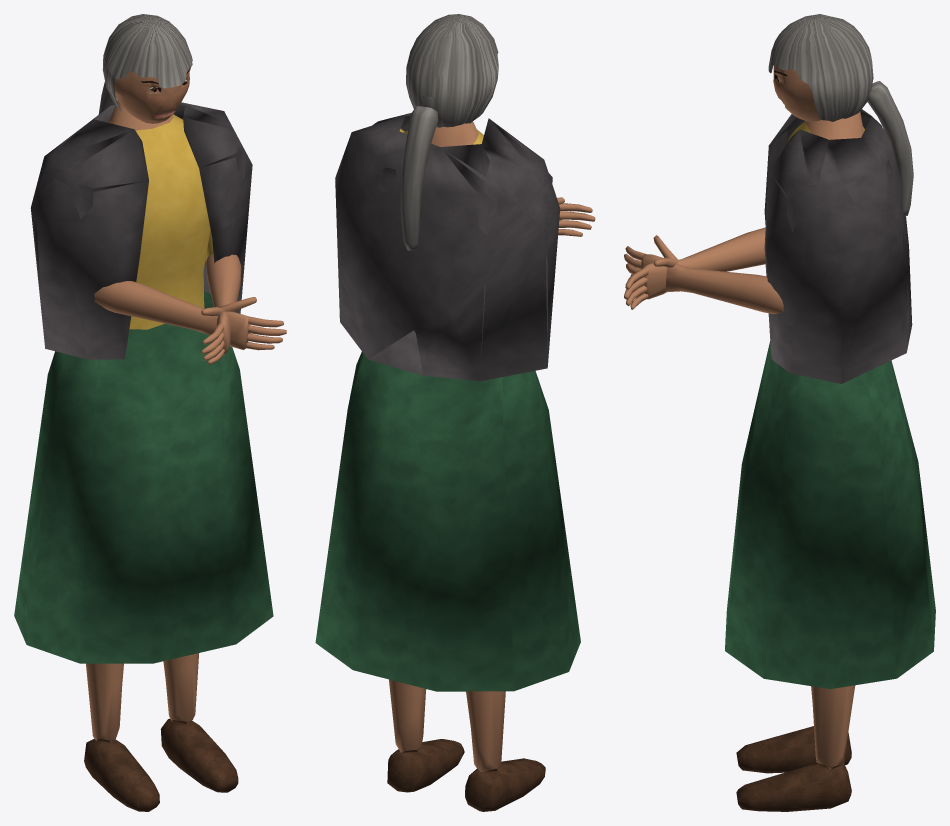
The model's file is persona_mujer_c_lod.obj.
3 views of the same model, side by side, from view 1: azimuth 30°, elevation 25°; view 2: azimuth 150°, elevation 25°; view 3: azimuth 270°, elevation 25° (orthographic). The views are drawn at different scales.
Parts seen in each view (by area): view 1: Falda, Rebozo, Torso, PiernaDer, PiernaIzq, AntebrazoDer, Pelo, AntebrazoIzq, Cabeza; view 2: Falda, Rebozo, Pelo, PiernaDer, PiernaIzq, Torso, AntebrazoIzq; view 3: Falda, Rebozo, Pelo, PiernaIzq, AntebrazoIzq, AntebrazoDer, PiernaDer, Cabeza, Torso.
Boxes of the visible parts, <box> form: Falda: <box>14,291,273,663</box>; Rebozo: <box>30,102,252,359</box>; Torso: <box>107,100,210,329</box>; PiernaDer: <box>84,663,159,811</box>; PiernaIzq: <box>160,653,238,792</box>; AntebrazoDer: <box>94,281,286,350</box>; Pelo: <box>98,14,192,114</box>; AntebrazoIzq: <box>200,253,241,364</box>; Cabeza: <box>114,68,189,123</box>; Falda: <box>315,352,580,691</box>; Rebozo: <box>335,113,560,381</box>; Pelo: <box>400,14,498,250</box>; PiernaDer: <box>465,691,545,811</box>; PiernaIzq: <box>387,679,464,792</box>; Torso: <box>403,121,483,146</box>; AntebrazoIzq: <box>557,197,595,236</box>; Falda: <box>725,341,935,688</box>; Rebozo: <box>764,109,912,383</box>; Pelo: <box>768,14,913,216</box>; PiernaIzq: <box>736,685,855,811</box>; AntebrazoIzq: <box>624,235,783,313</box>; AntebrazoDer: <box>624,227,765,309</box>; PiernaDer: <box>736,726,851,773</box>; Cabeza: <box>773,65,820,122</box>; Torso: <box>787,111,864,142</box>.
Size of the model in its own units: 0.5257 by 1.62 by 0.5939.
Materials: 12 (12 with a texture image).
